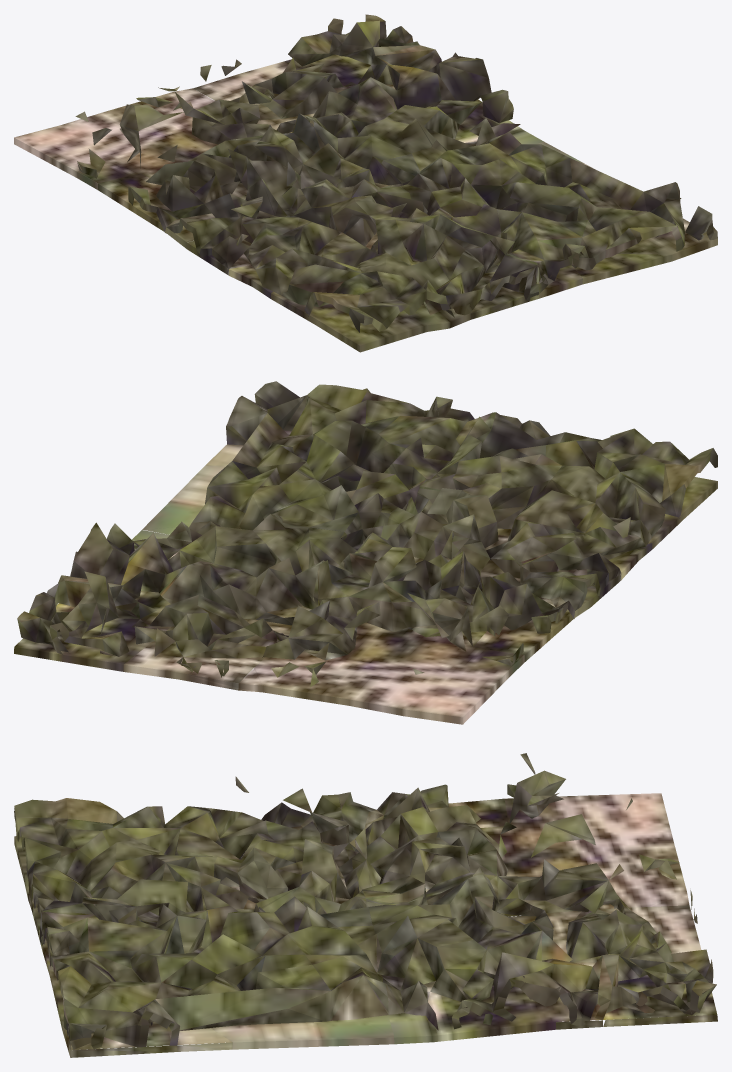
3 renders of one model, top to bottom at view 1: azimuth 30°, elevation 25°; view 2: azimuth 150°, elevation 25°; view 3: azimuth 270°, elevation 25°, orthographic. The views are drawn at different scales.
Visible parts, largest first — view 1: Mesh_0; view 2: Mesh_0; view 3: Mesh_0.
Boxes of the visible parts, left/top/right/bottom form: Mesh_0: left=14, top=14, right=717, bottom=352; Mesh_0: left=14, top=381, right=717, bottom=724; Mesh_0: left=14, top=753, right=717, bottom=1057.
Size of the model in its own units: 266 by 44.62 by 330.
Materials: 1 (1 with a texture image).
